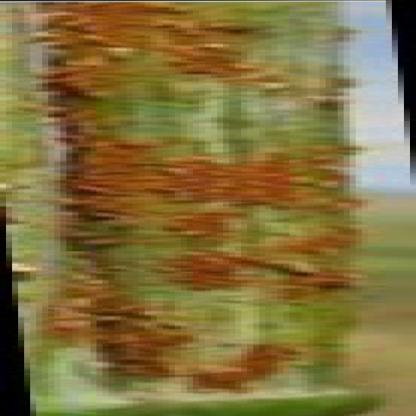wheat Stem Rust: (45, 3, 337, 394)
